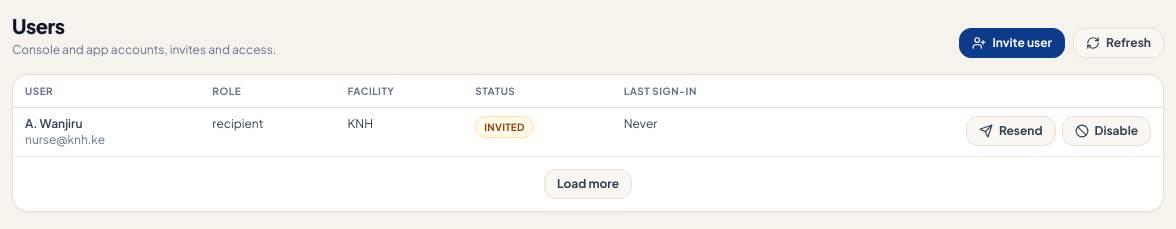
Scenario: UsersPage › loads the next page from meta.next_page
Click the button "Load more". click: (588, 184)
box: [544,169,632,199]
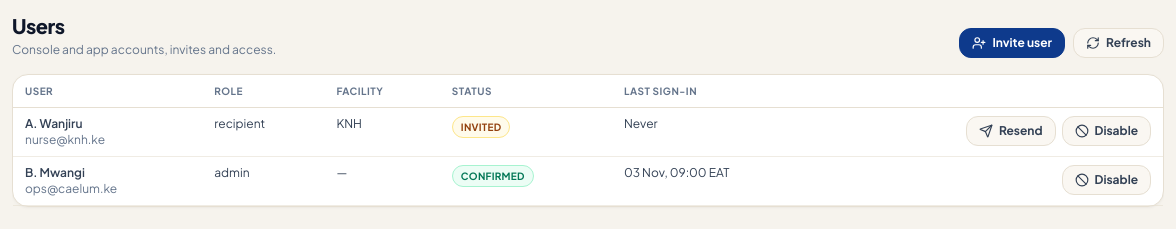
Expected: the text "nurse@knh.ke" is shown, [25,132,105,147]
Expected: the text "ops@caelum.ke" is shown, [25,181,117,196]
Expected: the button "Load more" is gone
